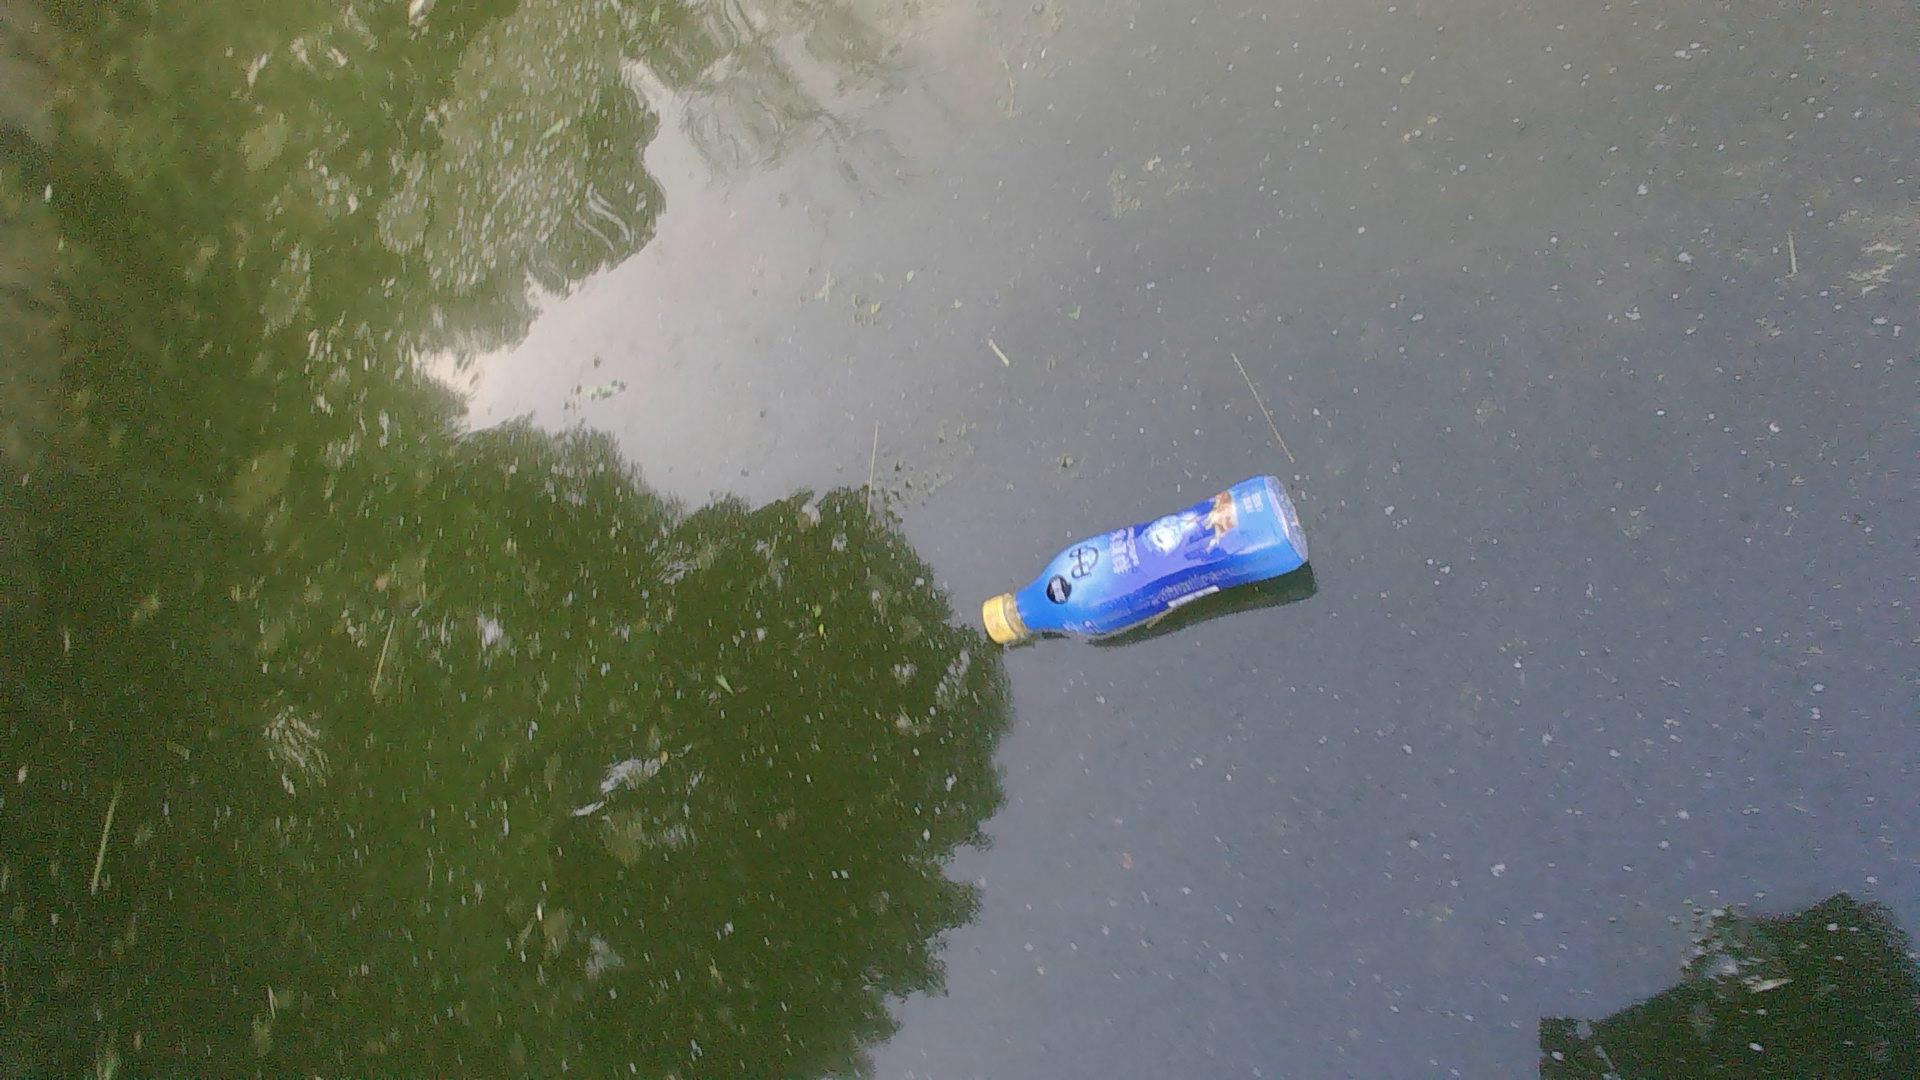Plastic: (981, 467, 1316, 657)
